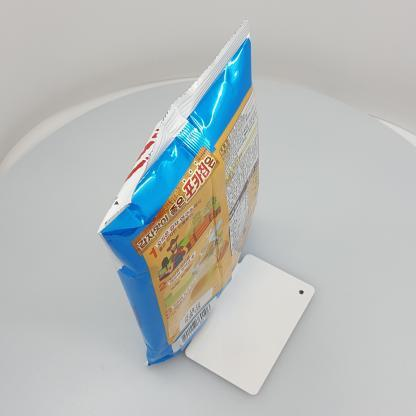Plastic Packaging: (86, 9, 302, 381)
